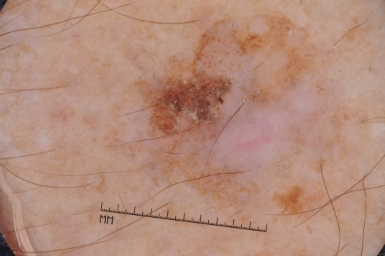seborrheic keratosis: (126, 11, 347, 204)
